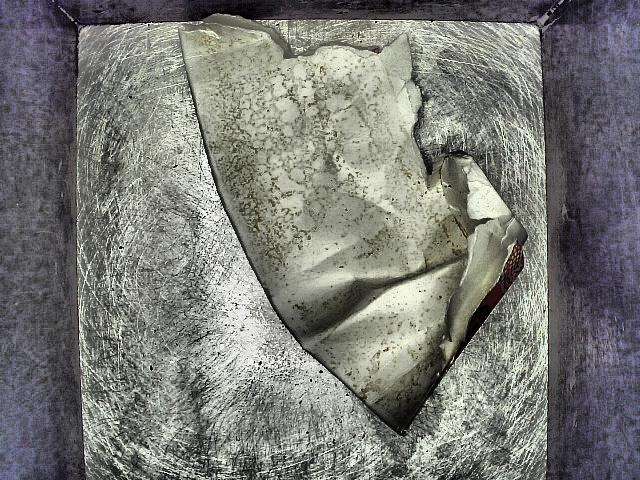Paper: (168, 17, 538, 436)
